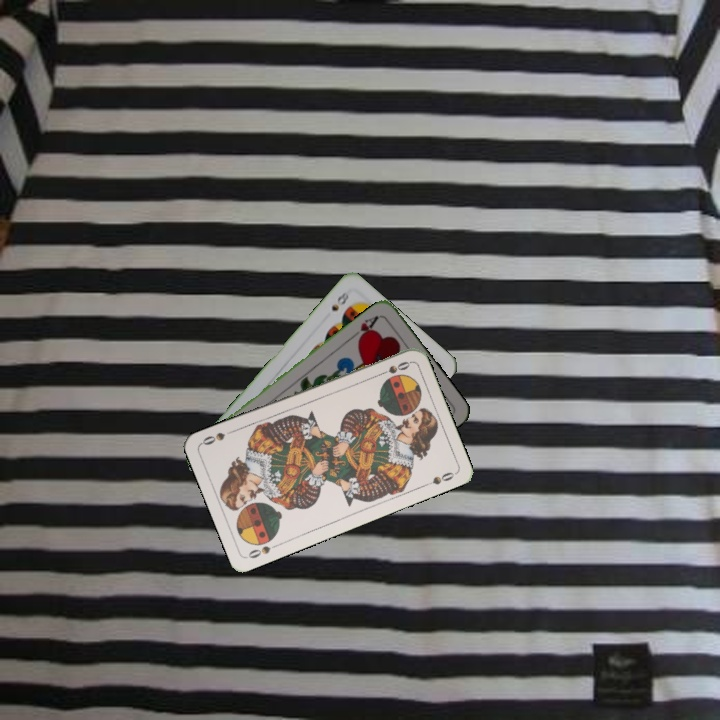HA: (348, 311, 381, 344)
S8: (327, 288, 352, 314)
SO: (374, 357, 413, 379), (244, 539, 282, 561)
